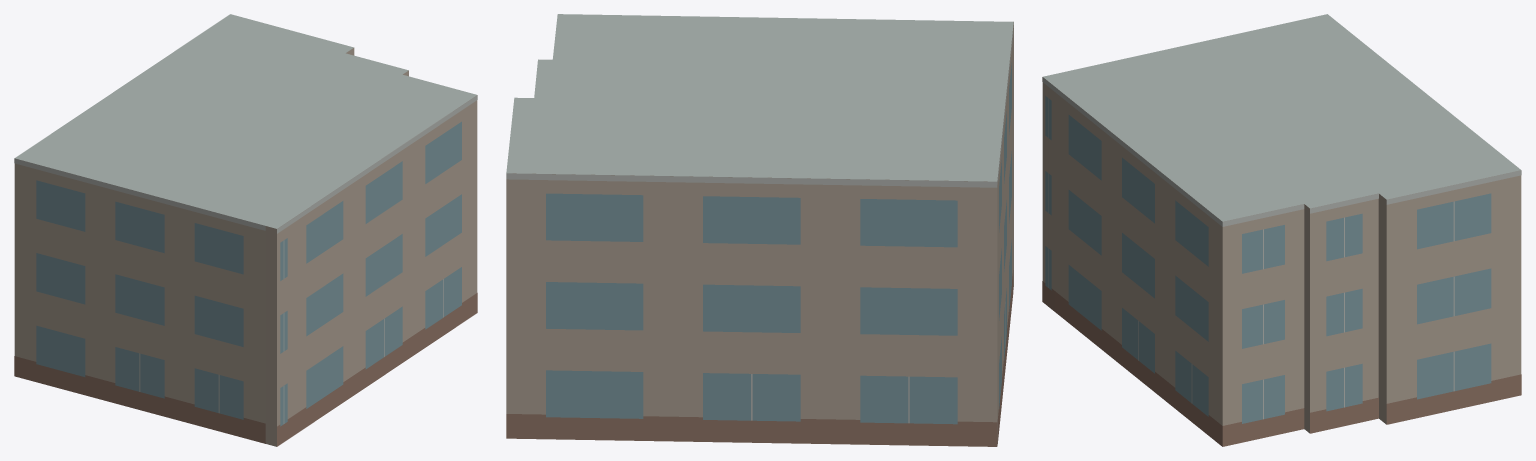
The model's file is survey-upis-32856457.glb.
3 views of the same model, side by side, from view 1: azimuth 30°, elevation 25°; view 2: azimuth 150°, elevation 25°; view 3: azimuth 270°, elevation 25° (orthographic). The views are drawn at different scales.
Visible parts, largest first — view 1: survey-upis-32856457.tmp; view 2: survey-upis-32856457.tmp; view 3: survey-upis-32856457.tmp.
Part boxes in pixels (box(x1,y1,x2,y2)): survey-upis-32856457.tmp: box(14, 14, 477, 446); survey-upis-32856457.tmp: box(506, 14, 1013, 446); survey-upis-32856457.tmp: box(1042, 14, 1521, 446).
Bounding box in the file's own units: 20.78 × 10.5 × 20.25.
